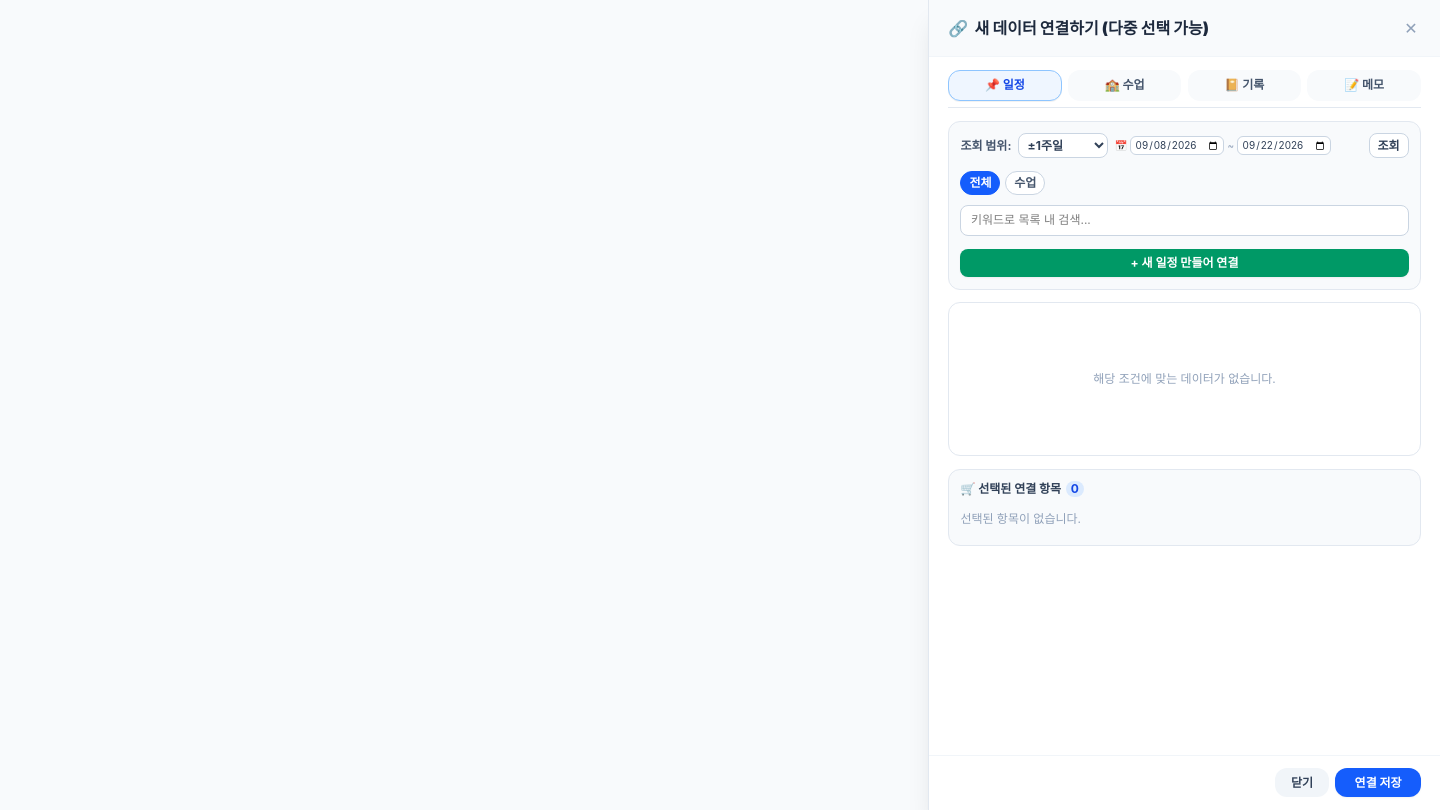
it: 링크 추가 - 고른 범위의 날짜를 보여 주고 고칠 수 있다 › 범위를 바꾸면 날짜도 따라 바뀐다
Step 1. Select "1학기 전체" in the dropdown showing "±1주일" → (1063, 146), box [1018, 133, 1108, 158]
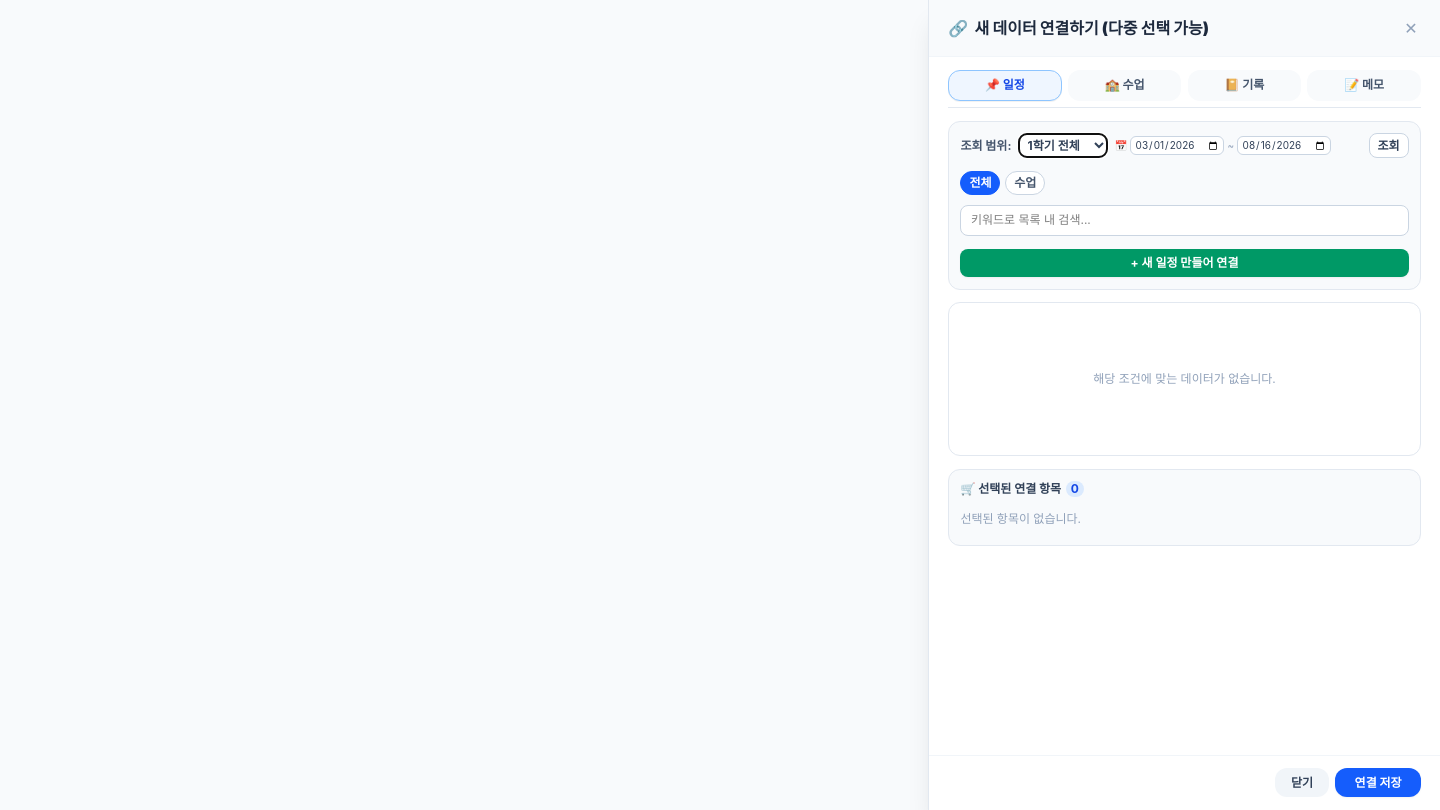
Expected: the date field named "시작일" holds "2026-03-01", [1130, 136, 1224, 155]
Expected: the date field named "종료일" holds "2026-08-16", [1237, 136, 1331, 155]
